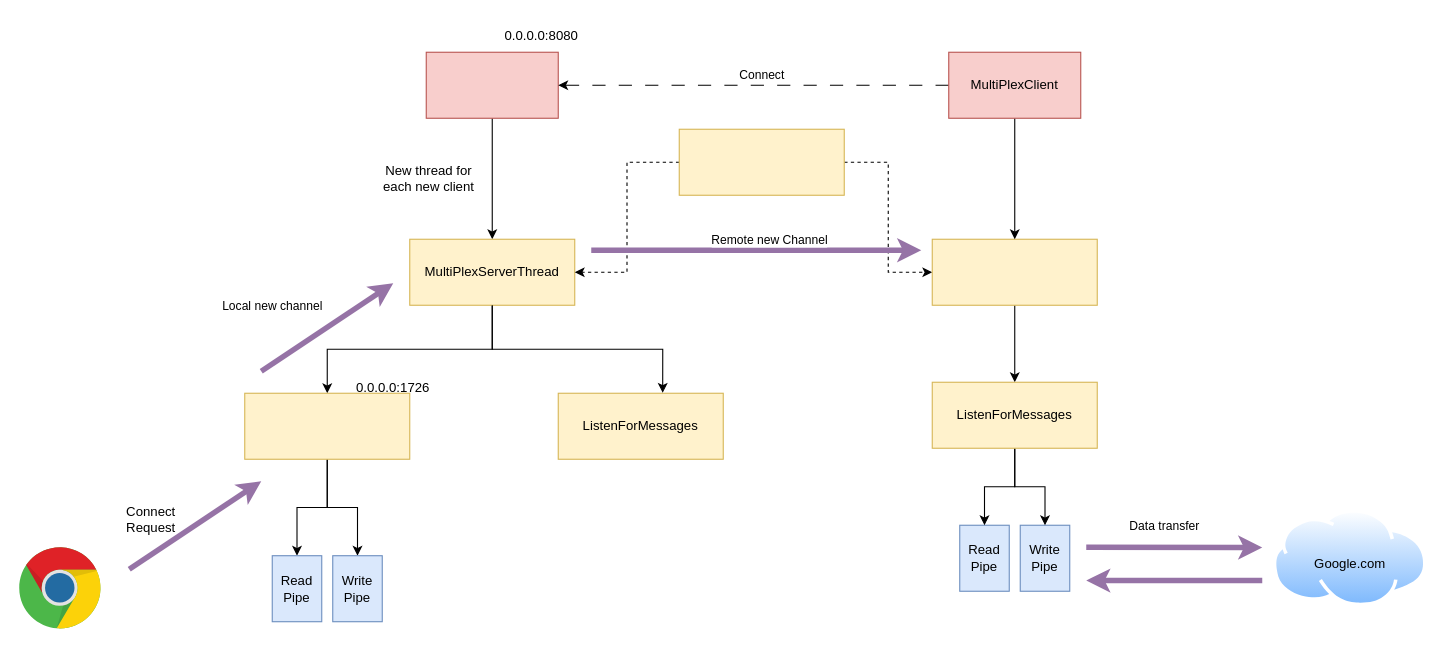
Image size: 1447x649. Some labels were removed from this diagram. Each missing label, with the centre of its shape:
"ForwardListen" goes at point (327, 425).
"MultiPlexClientThread" goes at point (1014, 271).
"MultiPlexServer" goes at point (491, 84).
"MultiPlexThread" goes at point (761, 161).
